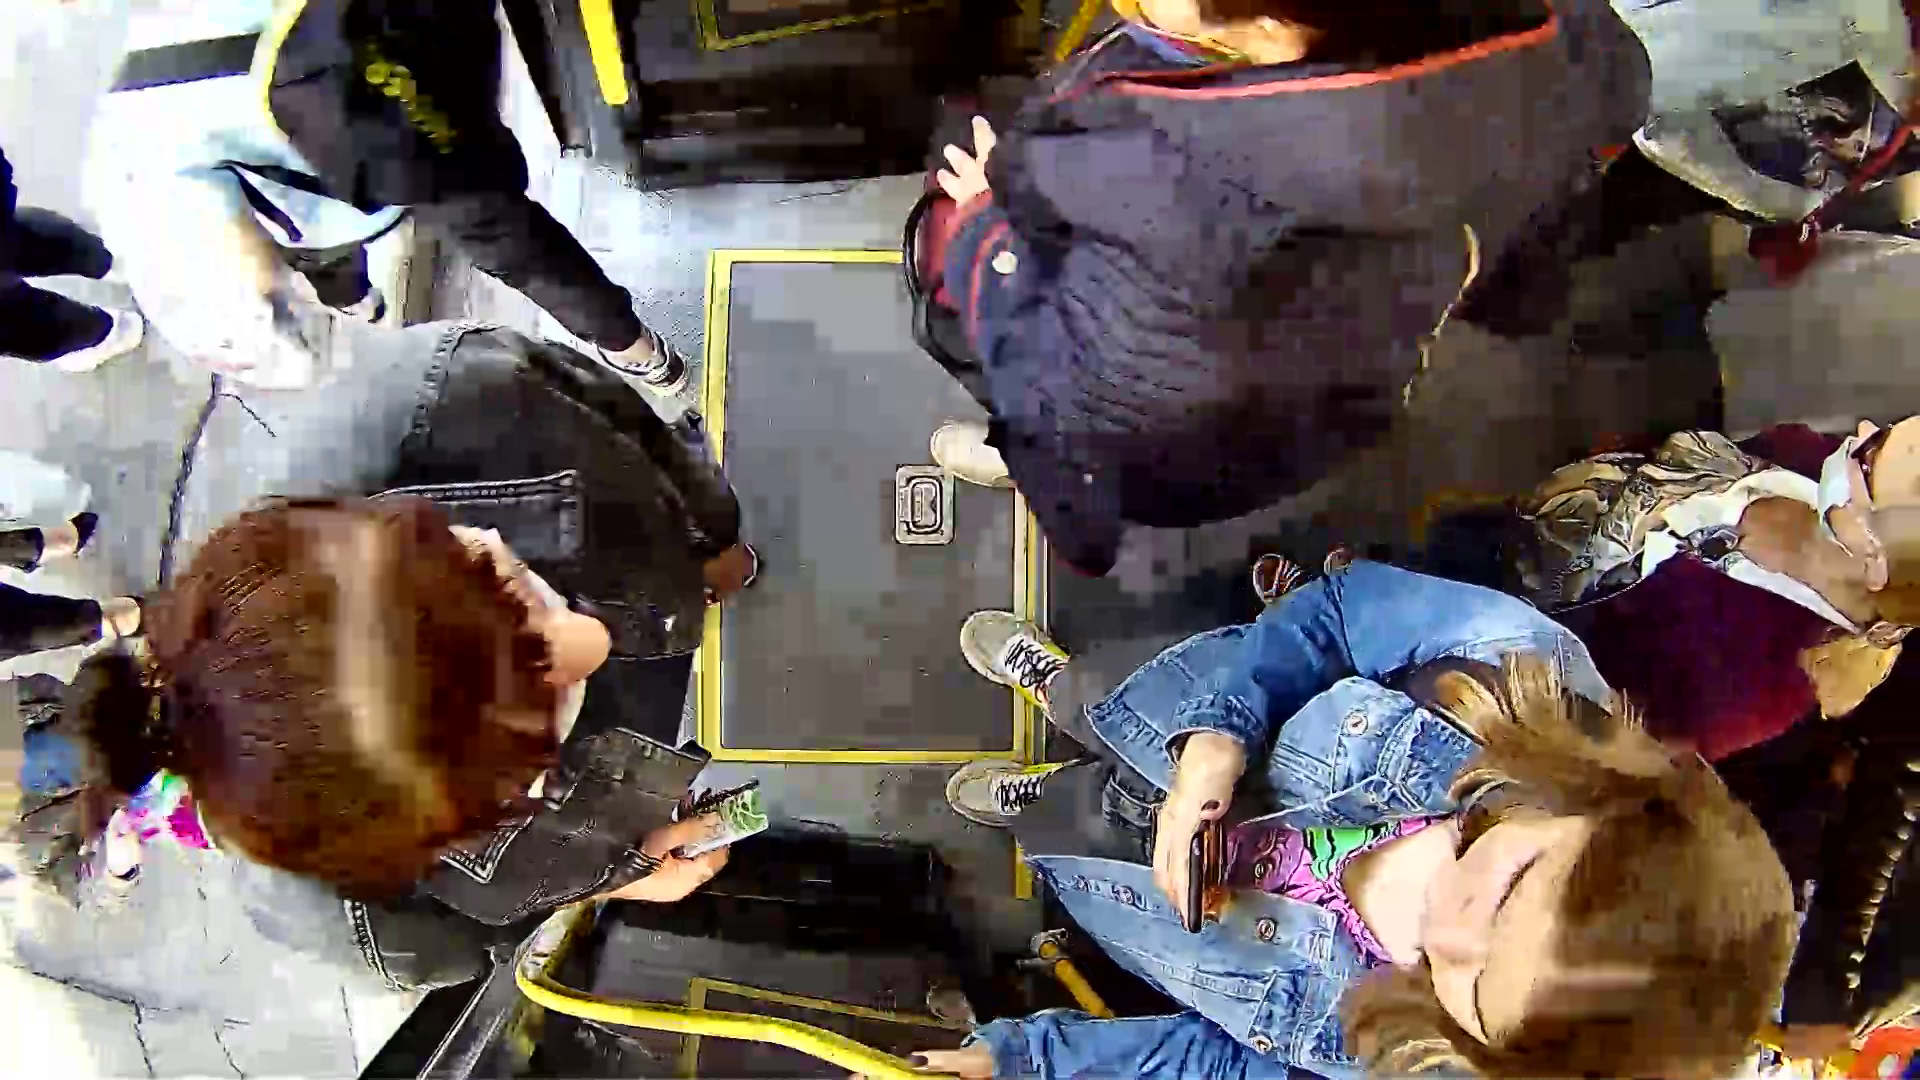person: (856, 526, 1775, 1069), (74, 300, 825, 885), (878, 11, 1705, 506)
